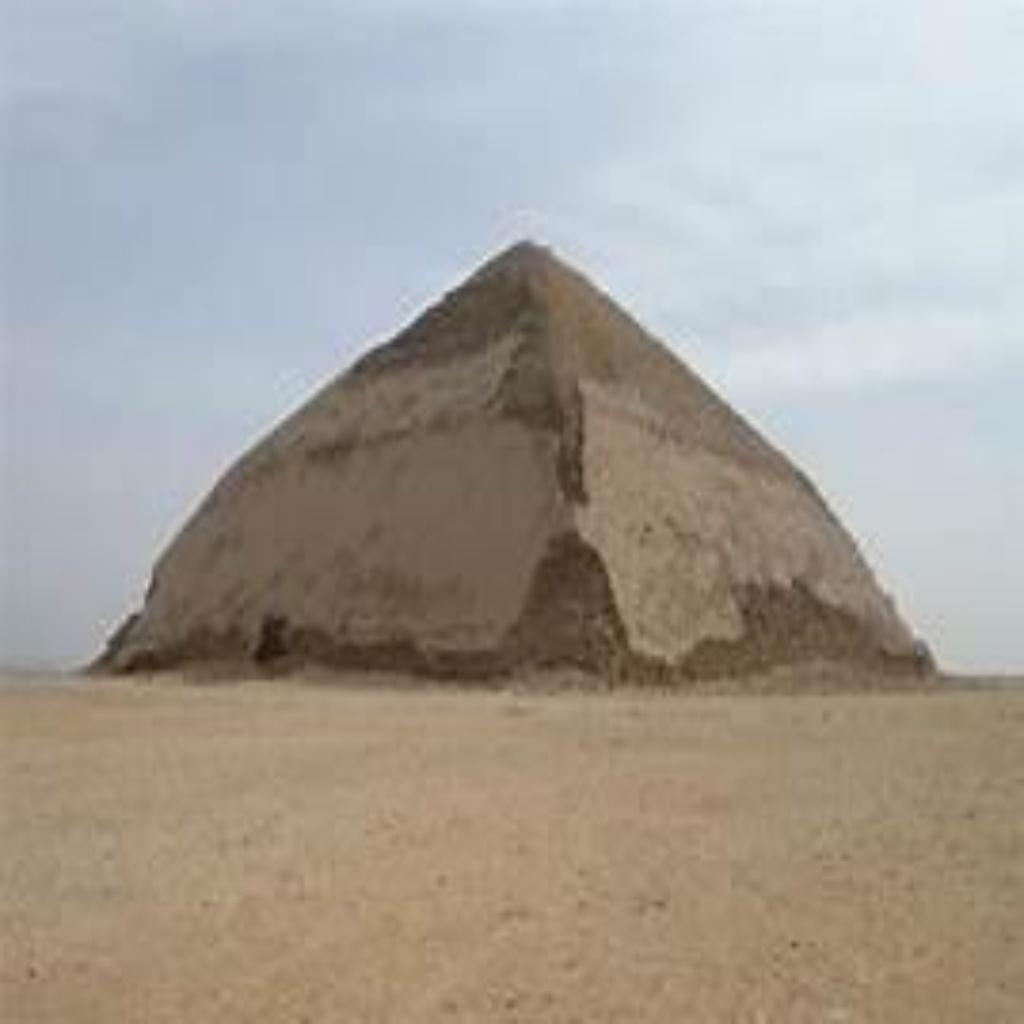Bent Pyramid of King Sneferu: (76, 225, 940, 691)
